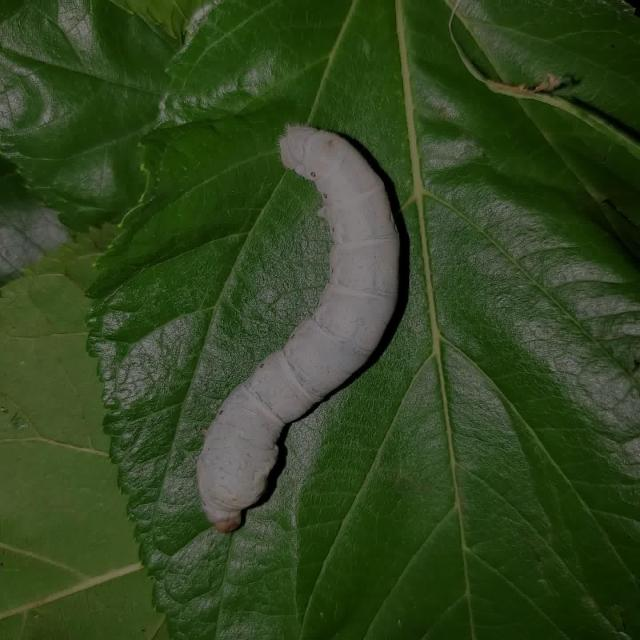Healthy: (179, 79, 418, 556)
